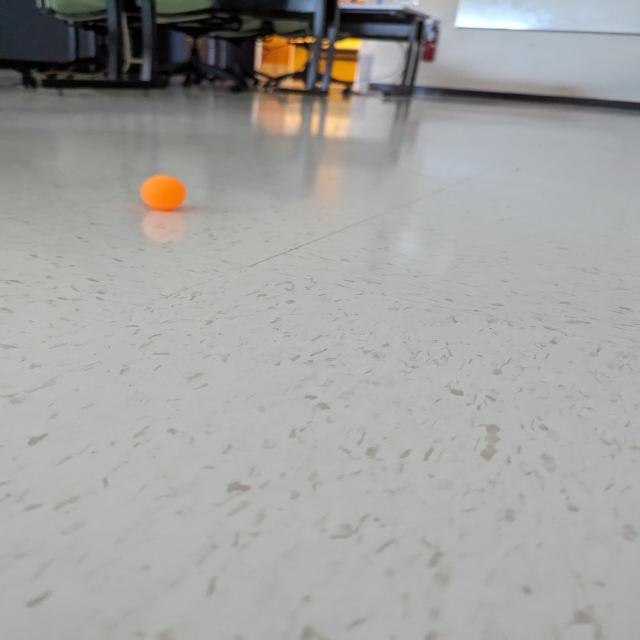ping-pong-ball: (138, 172, 192, 212)
